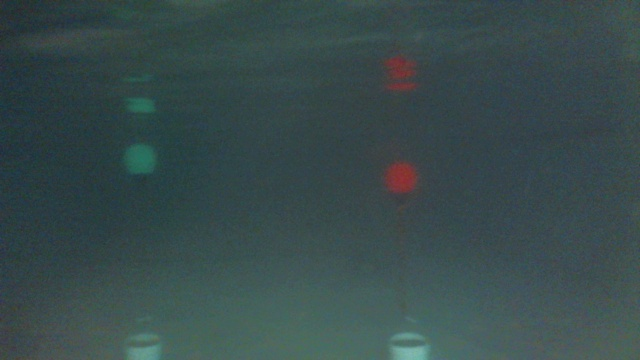buoy_green: (123, 140, 155, 188)
buoy_red: (382, 162, 414, 204)
